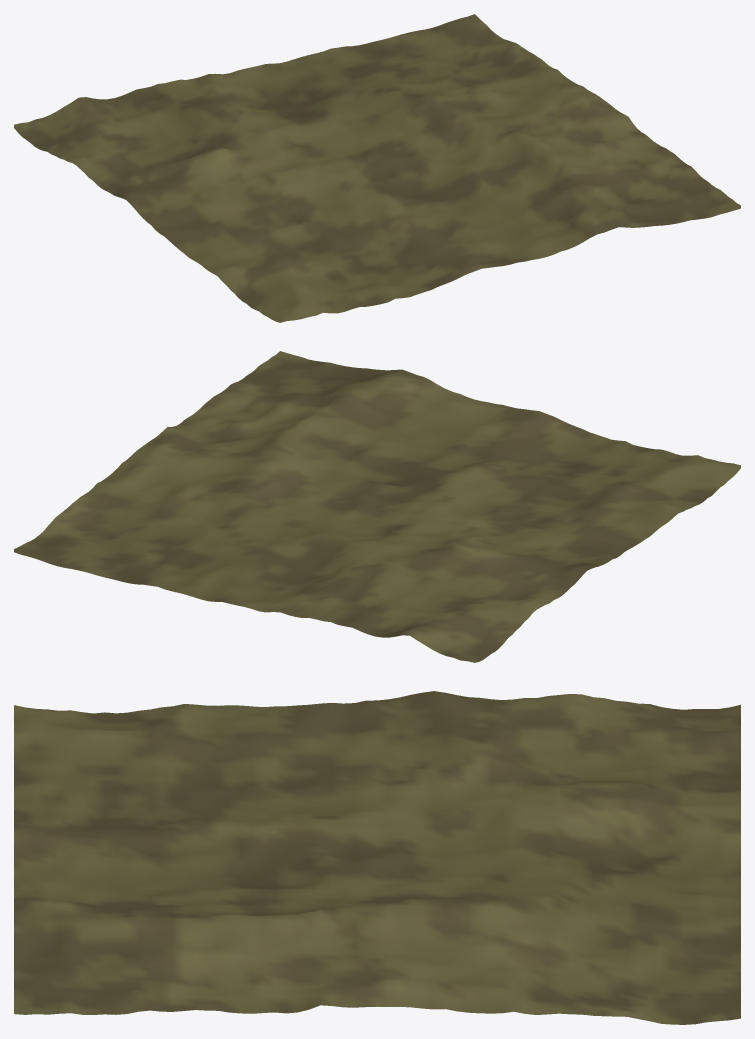
The model's file is land_f_01_00.glb.
The picture shows the model from 3 angles, top to bottom: view 1: azimuth 30°, elevation 25°; view 2: azimuth 150°, elevation 25°; view 3: azimuth 270°, elevation 25°; orthographic projection. The views are drawn at different scales.
Visible parts, largest first — view 1: land_f_01_00; view 2: land_f_01_00; view 3: land_f_01_00.
Part boxes in pixels (x1=…): land_f_01_00: x1=14, y1=14, x2=740, y2=322; land_f_01_00: x1=14, y1=351, x2=740, y2=662; land_f_01_00: x1=14, y1=691, x2=740, y2=1024.
Bounding box in the file's own units: 3840 × 240 × 3840.
